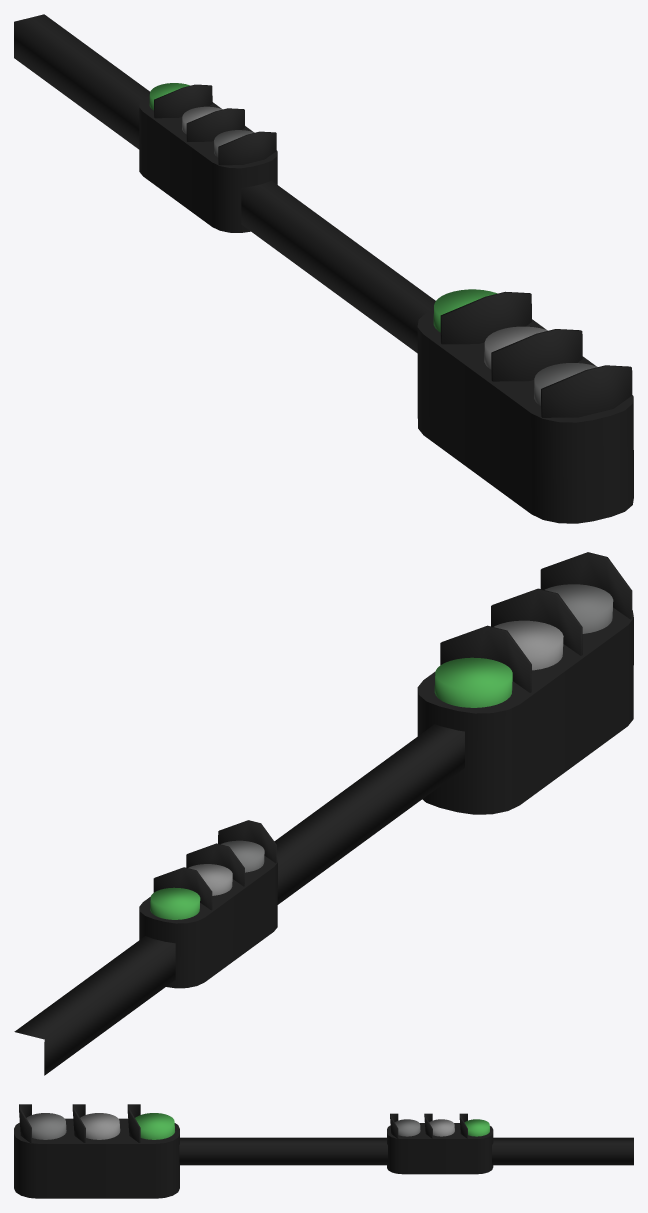
Rendered from traffic_light_green.glb.
3 views of the same model, one above another, from view 1: azimuth 30°, elevation 25°; view 2: azimuth 150°, elevation 25°; view 3: azimuth 270°, elevation 25° (orthographic). The views are drawn at different scales.
Visible parts, largest first — view 1: 1. Green; view 2: 1. Green; view 3: 1. Green.
Part boxes in pixels (x1,y1,x2,y2): 1. Green: (14,14,633,523); 1. Green: (14,552,633,1075); 1. Green: (14,1104,633,1198).
Bounding box in the file's own units: 0.5899 × 0.8512 × 6.03.
Materials: 1 (1 with a texture image).
